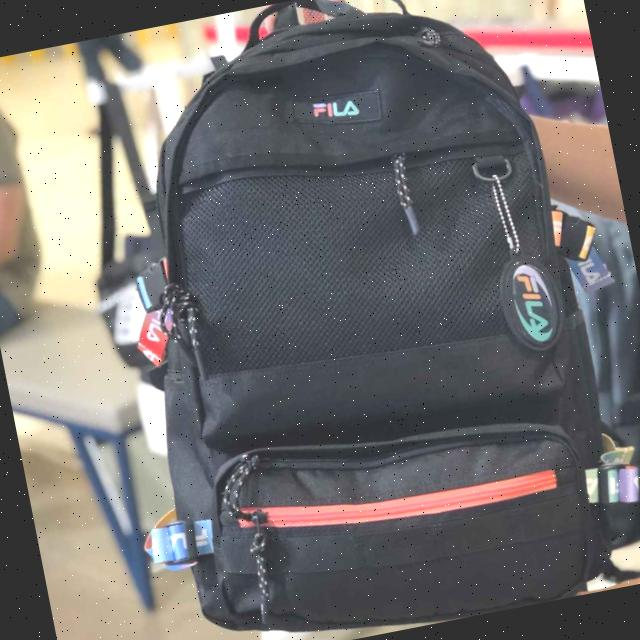Handbag: (89, 0, 636, 640)
